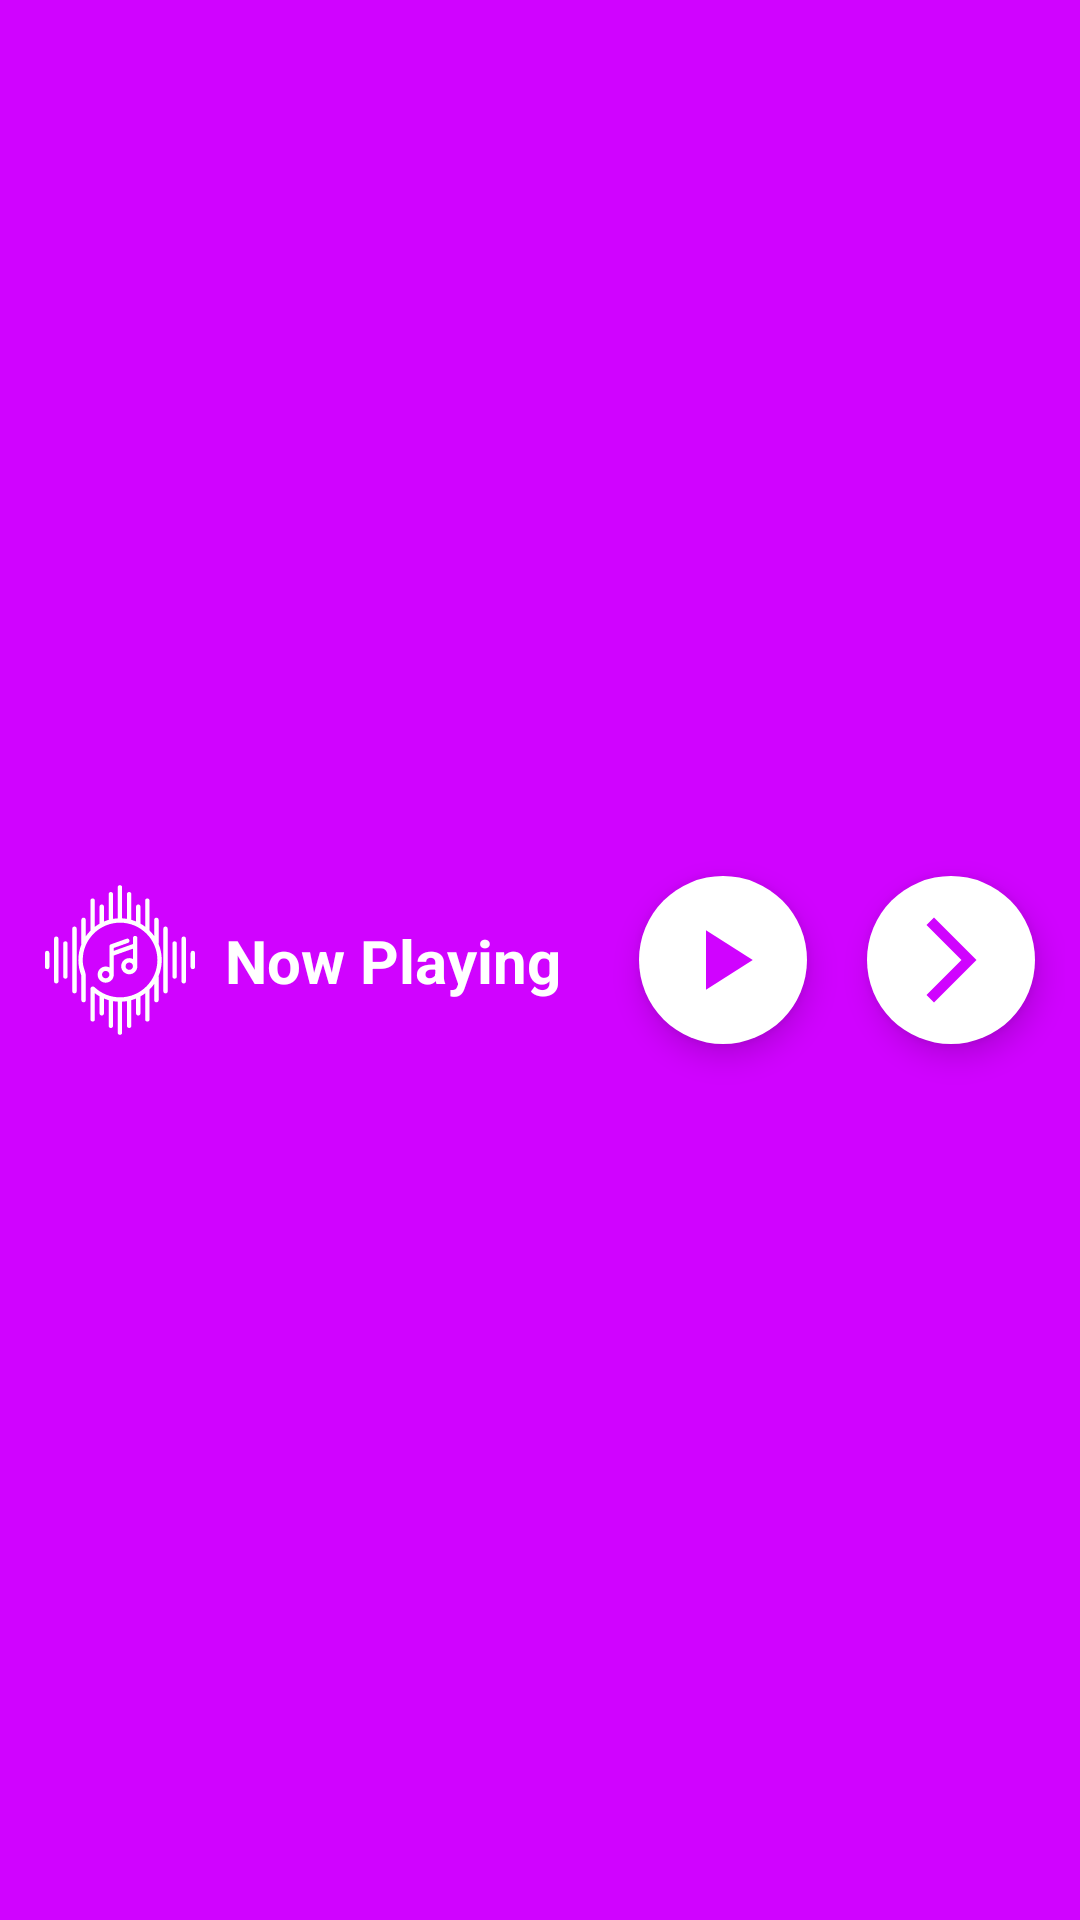

Point at icon controls on the screen. Image size 1080×1920, points as point (x, y).
farwards: point (951, 960)
music: point (120, 960)
